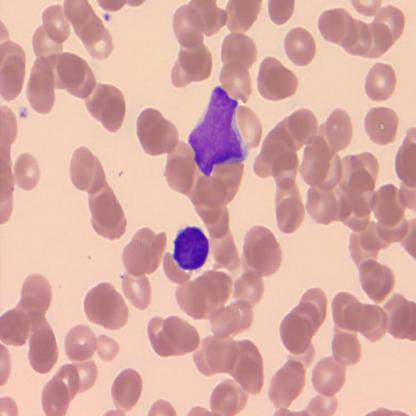Blast: (186, 83, 254, 180), (170, 222, 211, 274)
